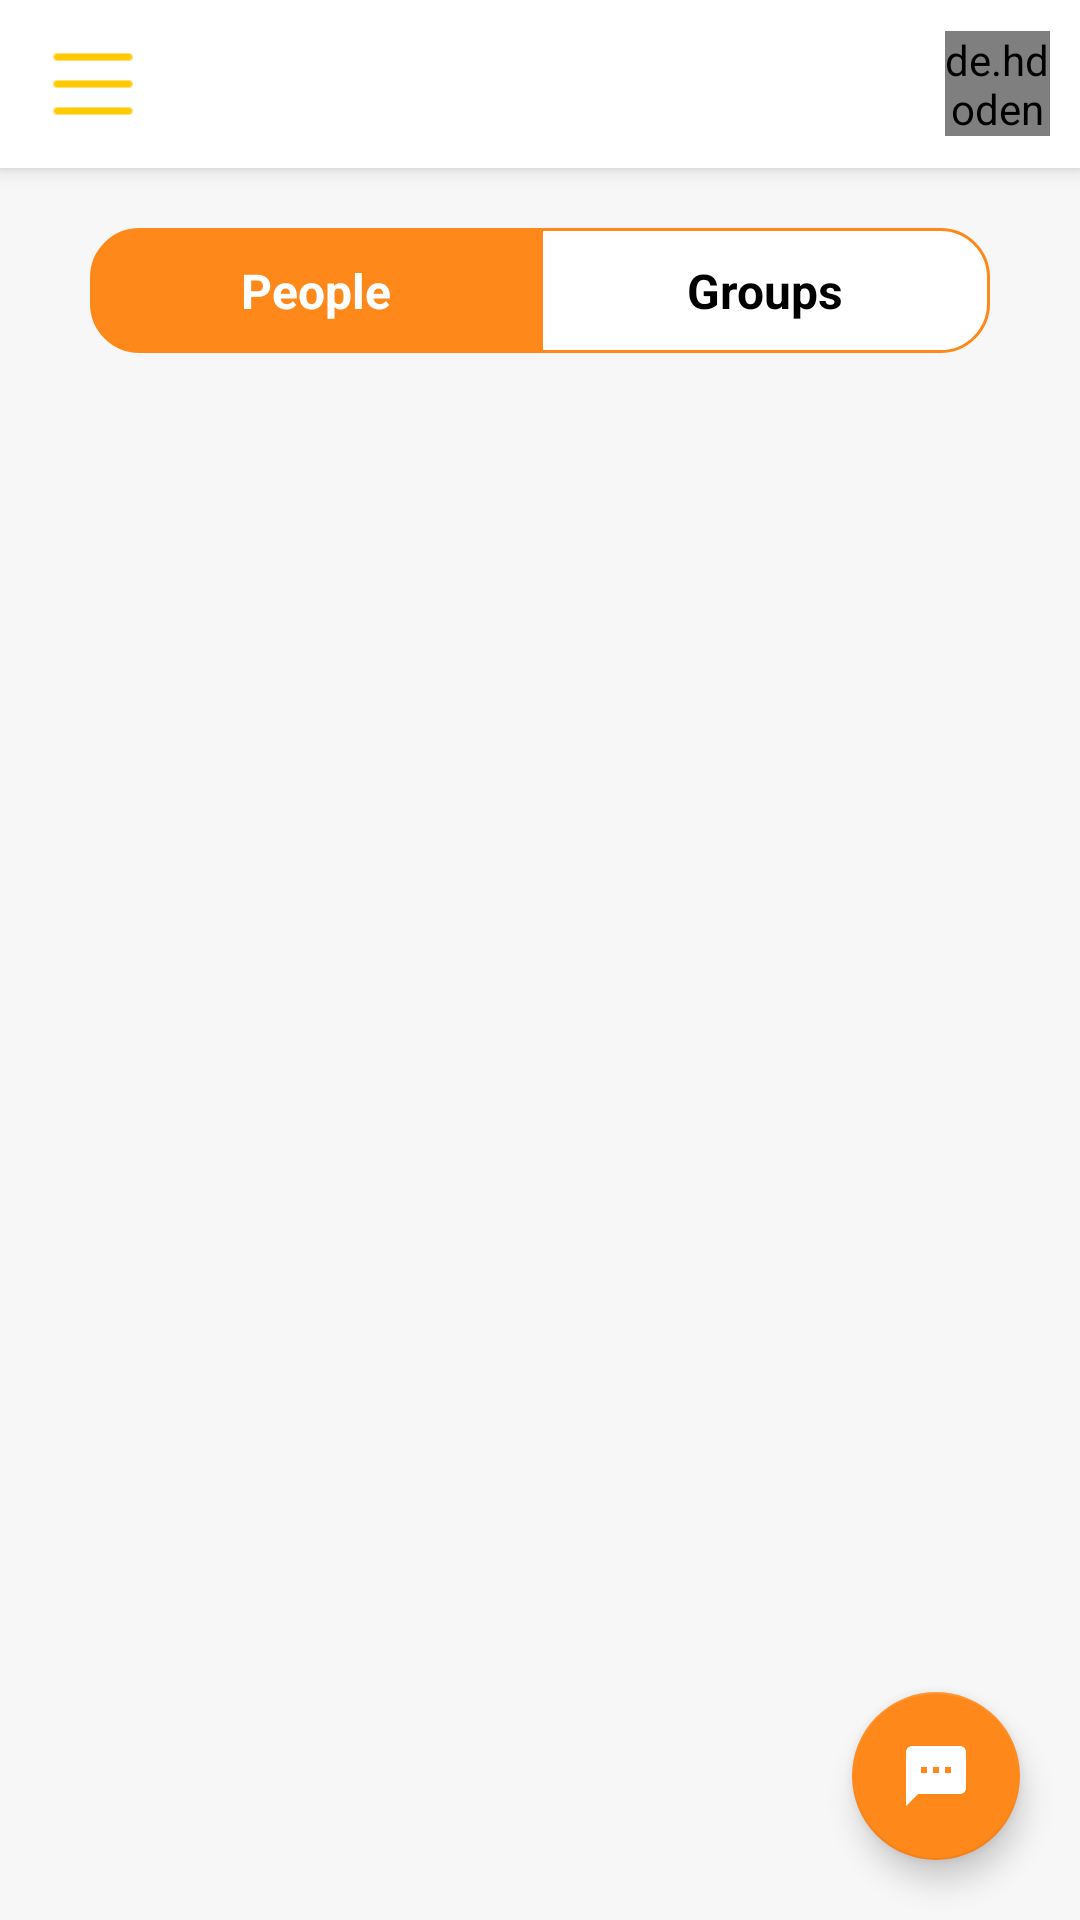

Icons on this 1080 x 1920 Android screen, each with the point to tap as (x,y):
menu: (93,84)
